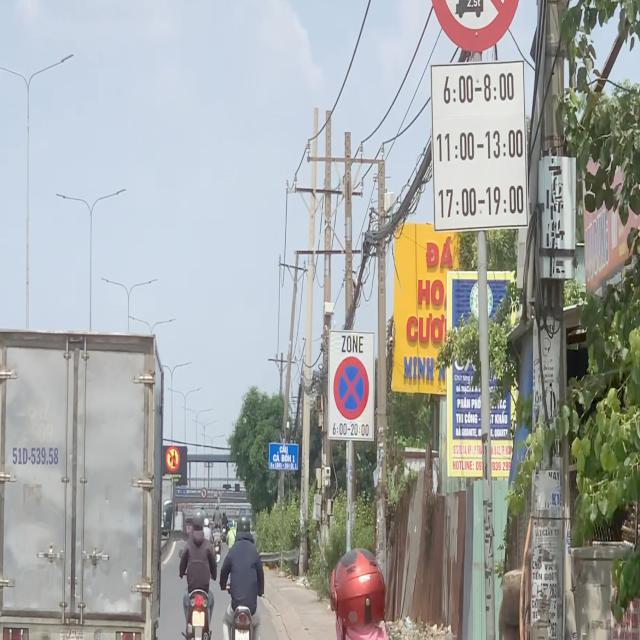Cam dung va do: (332, 354, 370, 422)
